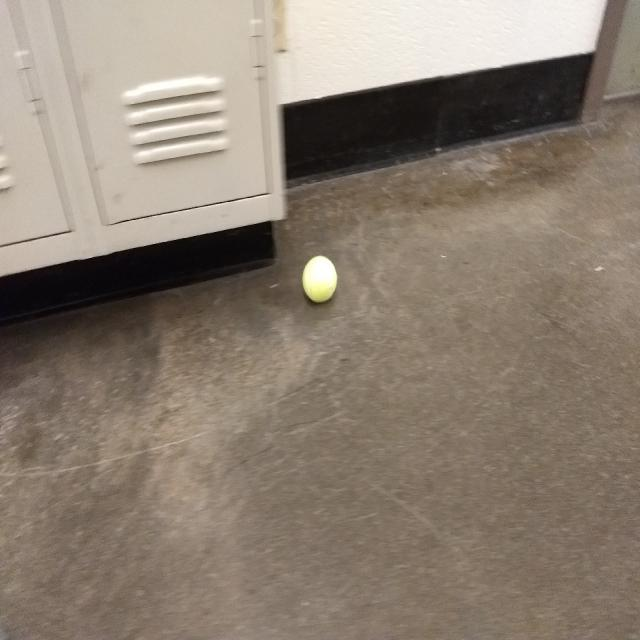Tennis-Ball: (302, 255, 338, 304)
